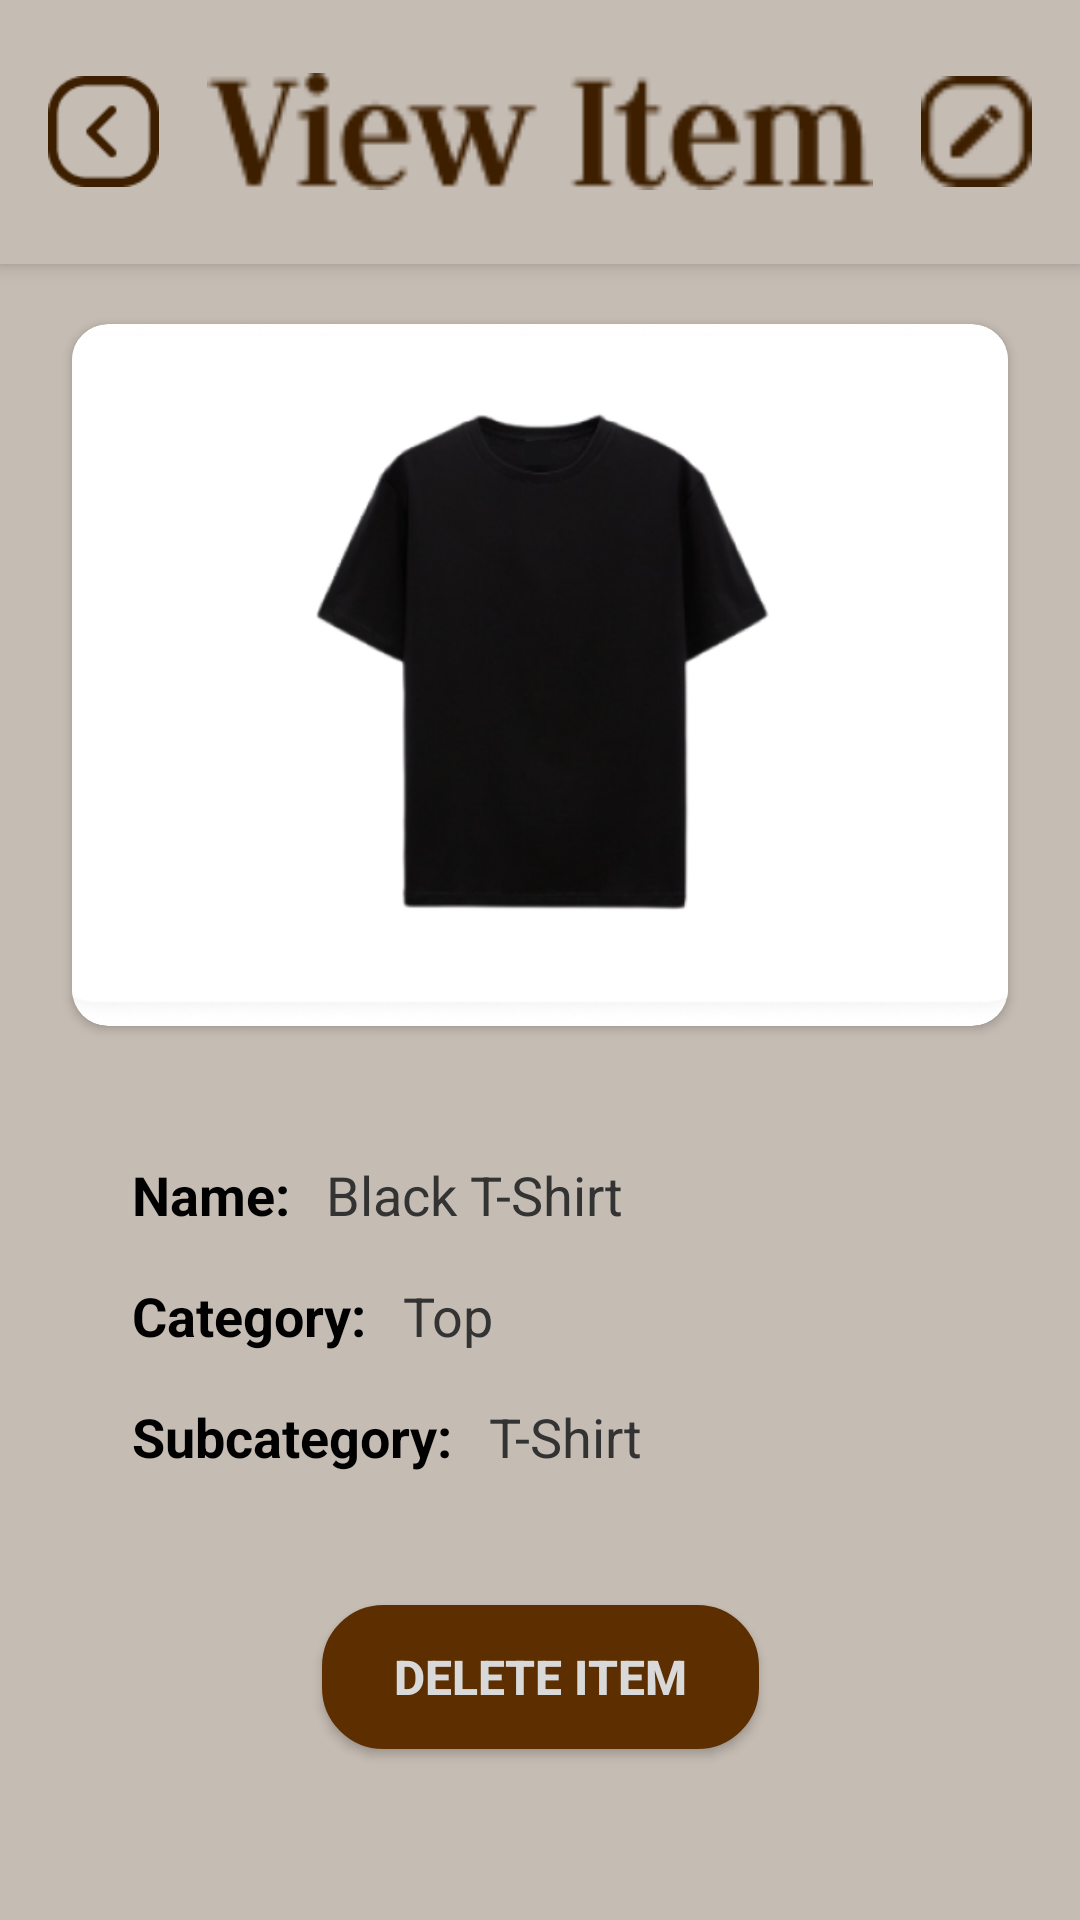

Locate icon controls on the screen. Image size 1080*1920, boxes as (x1, y1, x2, y2).
Edit Item: (921, 76, 1032, 187)
